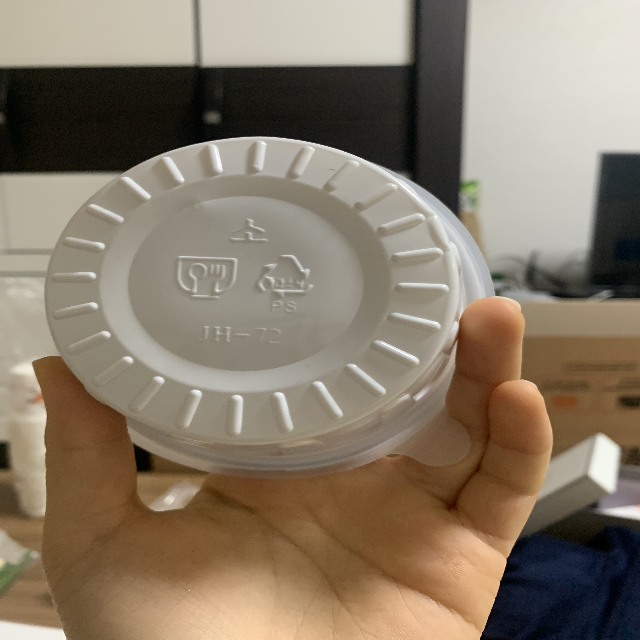ps: (254, 249, 316, 313)
